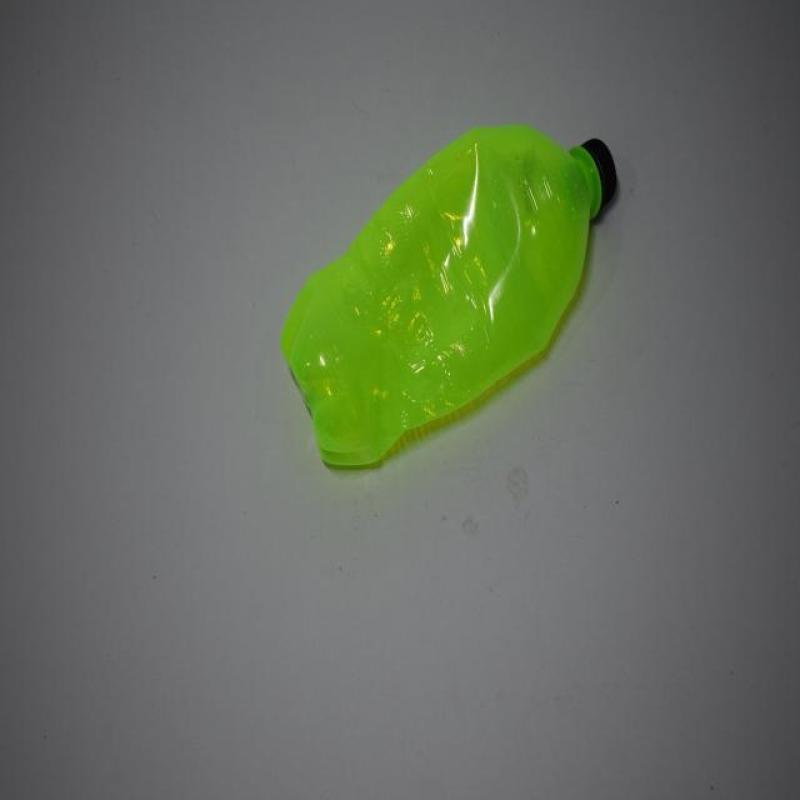botella: (280, 118, 620, 470)
